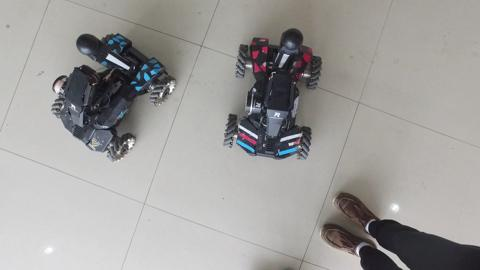chariot: (43, 26, 177, 165), (223, 19, 321, 174)
